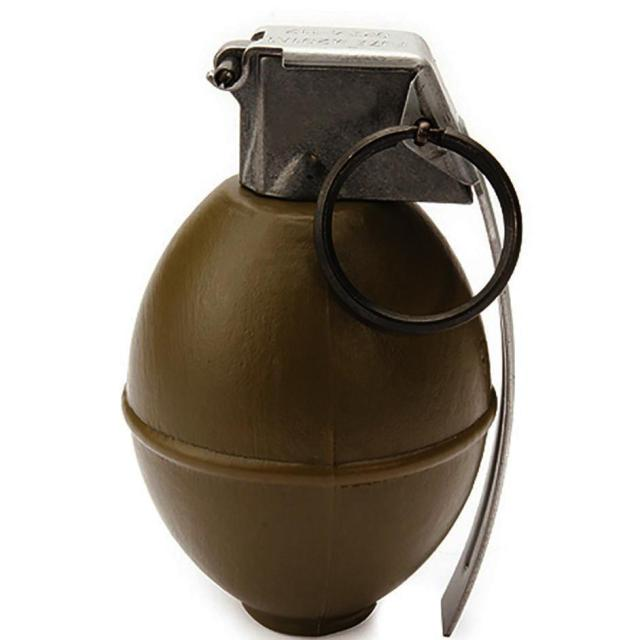grenade: (123, 28, 525, 640)
